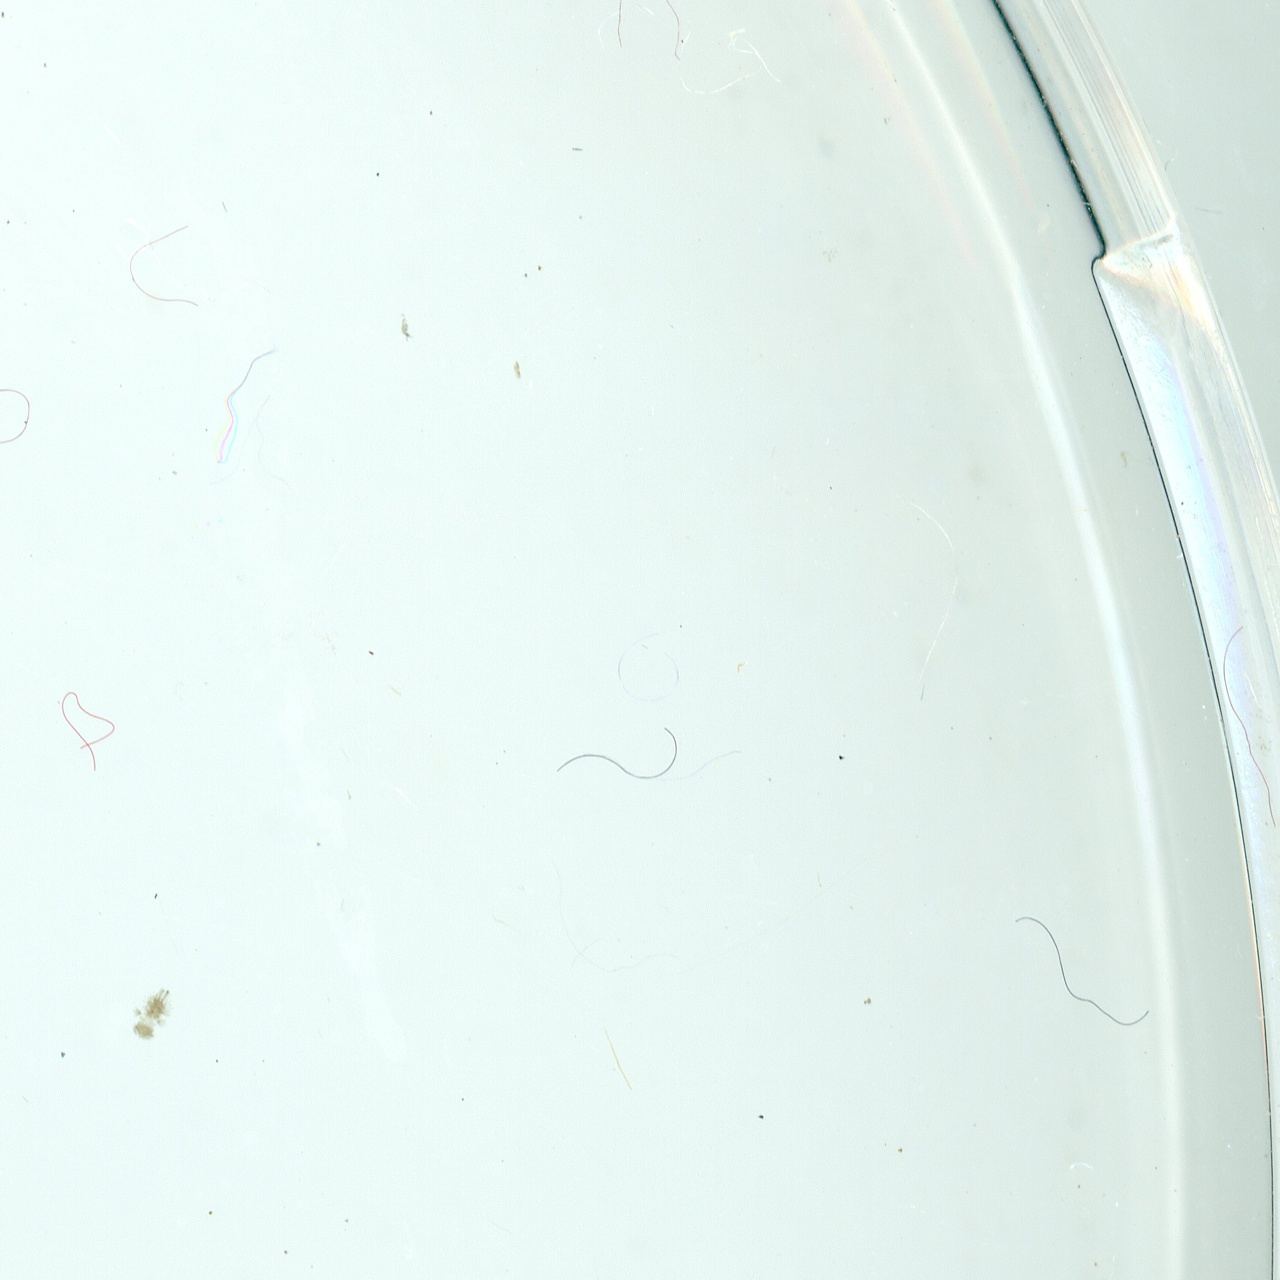arthropod: (126, 980, 175, 1037)
